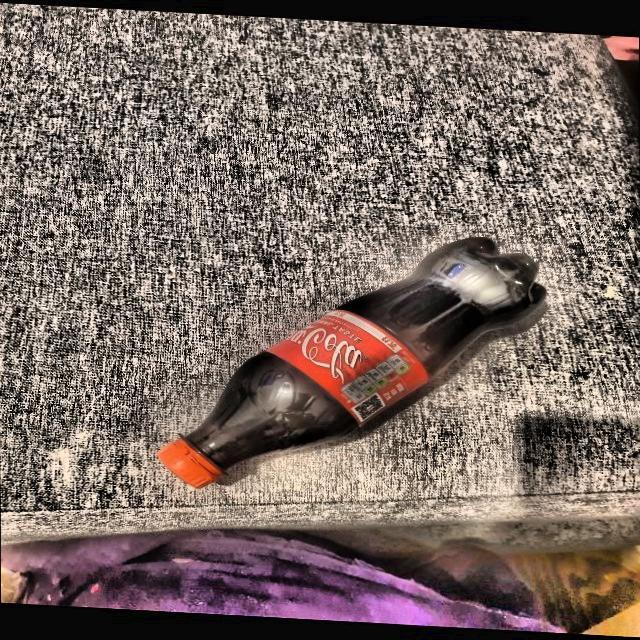coke-bottle: (156, 238, 550, 488)
